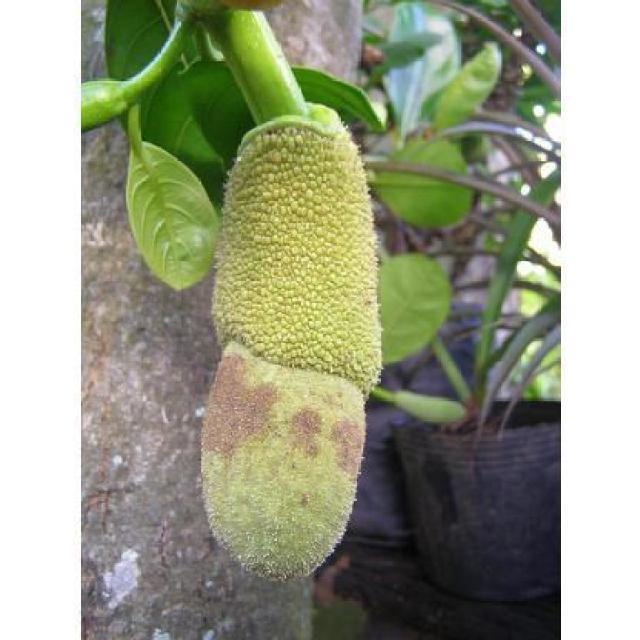Jackfruit: (196, 107, 378, 573)
